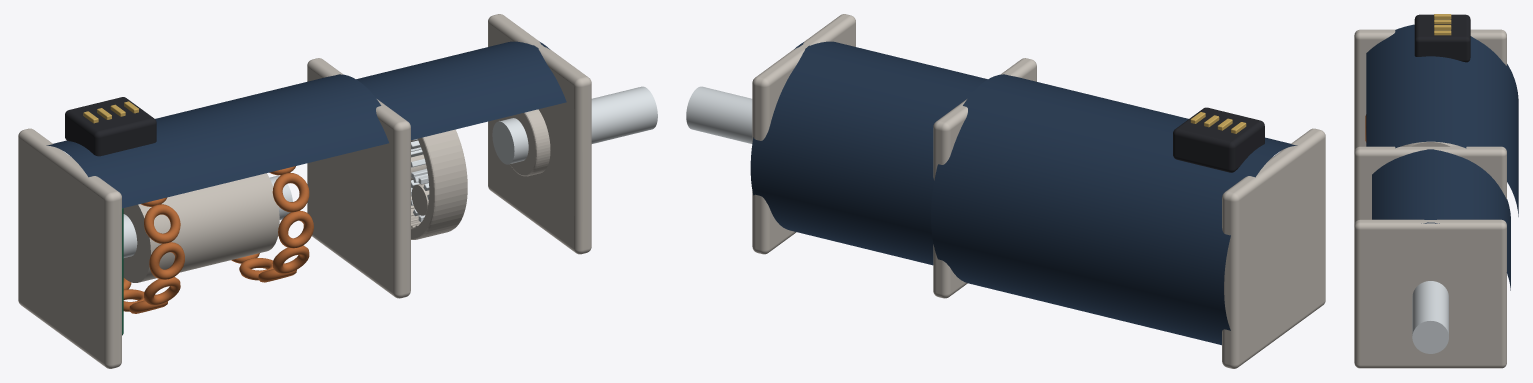
The model's file is robots-51.glb.
The picture shows the model from 3 angles, left to right: view 1: azimuth 30°, elevation 25°; view 2: azimuth 150°, elevation 25°; view 3: azimuth 270°, elevation 25°; orthographic projection. The views are drawn at different scales.
Parts seen in each view (by area): view 1: plate, casing, rotor, stator, output, ring-gear, connector, bearings, gears; view 2: casing, plate, connector, output; view 3: plate, casing, connector, output, rotor.
Part boxes in pixels (bbox=[...]): plate: bbox=[18, 14, 591, 368]; casing: bbox=[46, 41, 566, 208]; rotor: bbox=[123, 173, 292, 282]; stator: bbox=[123, 166, 313, 313]; output: bbox=[492, 86, 657, 164]; ring-gear: bbox=[411, 129, 467, 239]; connector: bbox=[65, 97, 156, 156]; bearings: bbox=[499, 109, 550, 176]; gears: bbox=[411, 139, 429, 222]; casing: bbox=[750, 41, 1297, 345]; plate: bbox=[752, 14, 1325, 368]; connector: bbox=[1173, 107, 1264, 172]; output: bbox=[686, 86, 752, 143]; plate: bbox=[1354, 29, 1506, 368]; casing: bbox=[1366, 24, 1518, 290]; connector: bbox=[1414, 14, 1470, 62]; output: bbox=[1412, 281, 1448, 353]; rotor: bbox=[1401, 141, 1460, 146].
Bounding box in the file's own units: 2.82 × 0.9996 × 0.8251.
